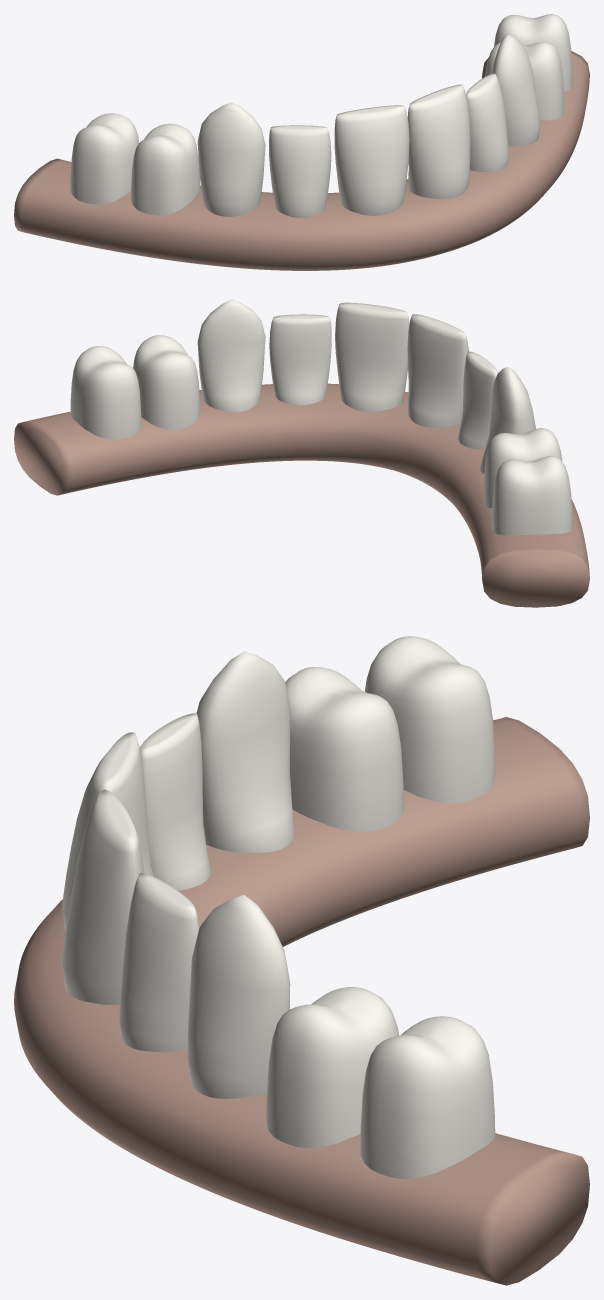
Rendered from fullmouth.glb.
3 renders of one model, top to bottom at view 1: azimuth 30°, elevation 25°; view 2: azimuth 150°, elevation 25°; view 3: azimuth 270°, elevation 25°, orthographic. The views are drawn at different scales.
Parts seen in each view (by area): view 1: arch, crown_05, crown_03, crown_06, crown_02, crown_04, crown_01, crown_08, crown_07, crown_09, crown_10; view 2: arch, crown_06, crown_08, crown_05, crown_01, crown_10, crown_07, crown_09, crown_04, crown_03, crown_02; view 3: arch, crown_10, crown_08, crown_03, crown_02, crown_01, crown_09, crown_06, crown_07, crown_04, crown_05.
Part boxes in pixels (x1,y1,x2,y2): arch: [14, 51, 589, 270]; crown_05: [334, 105, 409, 215]; crown_03: [197, 102, 265, 216]; crown_06: [407, 84, 470, 199]; crown_02: [131, 123, 199, 215]; crown_04: [269, 125, 331, 217]; crown_01: [70, 113, 139, 204]; crown_08: [492, 34, 540, 146]; crown_07: [466, 73, 508, 171]; crown_09: [485, 41, 564, 120]; crown_10: [494, 14, 572, 91]; arch: [14, 383, 589, 607]; crown_06: [335, 302, 409, 411]; crown_08: [197, 299, 265, 412]; crown_05: [407, 314, 468, 427]; crown_01: [492, 455, 572, 535]; crown_10: [70, 346, 141, 439]; crown_07: [269, 314, 331, 405]; crown_09: [133, 335, 199, 429]; crown_04: [458, 351, 498, 449]; crown_03: [480, 367, 535, 473]; crown_02: [483, 428, 562, 508]; arch: [14, 717, 589, 1285]; crown_10: [360, 1016, 495, 1178]; crown_08: [187, 895, 290, 1098]; crown_03: [196, 651, 294, 852]; crown_02: [285, 667, 403, 832]; crown_01: [364, 636, 495, 803]; crown_09: [266, 987, 398, 1148]; crown_06: [62, 789, 144, 1005]; crown_07: [119, 873, 199, 1052]; crown_04: [140, 713, 210, 890]; crown_05: [62, 732, 153, 930].
Size of the model in its own units: 2.96 by 0.7572 by 1.42.
